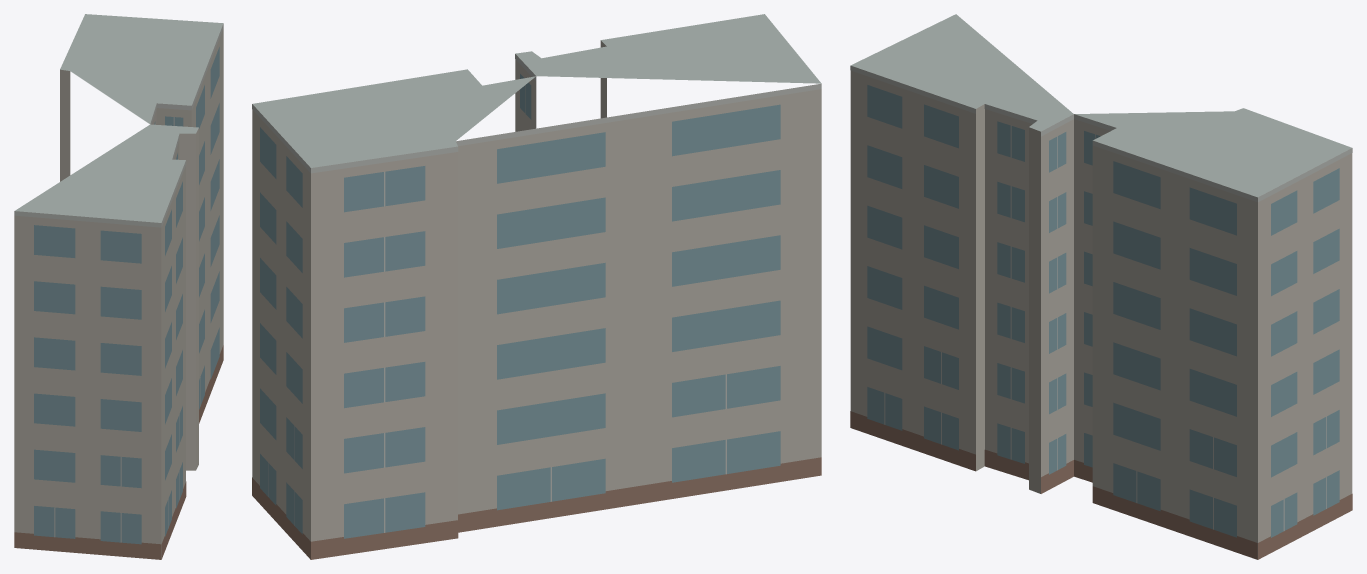
The model's file is survey-upis-32695674.glb.
The picture shows the model from 3 angles, left to right: view 1: azimuth 30°, elevation 25°; view 2: azimuth 150°, elevation 25°; view 3: azimuth 270°, elevation 25°; orthographic projection. The views are drawn at different scales.
Parts seen in each view (by area): view 1: survey-upis-32695674.tmp; view 2: survey-upis-32695674.tmp; view 3: survey-upis-32695674.tmp.
Boxes of the visible parts, x1,y1,x2,y2 form: survey-upis-32695674.tmp: [14, 14, 223, 559]; survey-upis-32695674.tmp: [252, 14, 821, 559]; survey-upis-32695674.tmp: [850, 14, 1352, 559].
Bounding box in the file's own units: 19.36 × 17.83 × 22.39.
